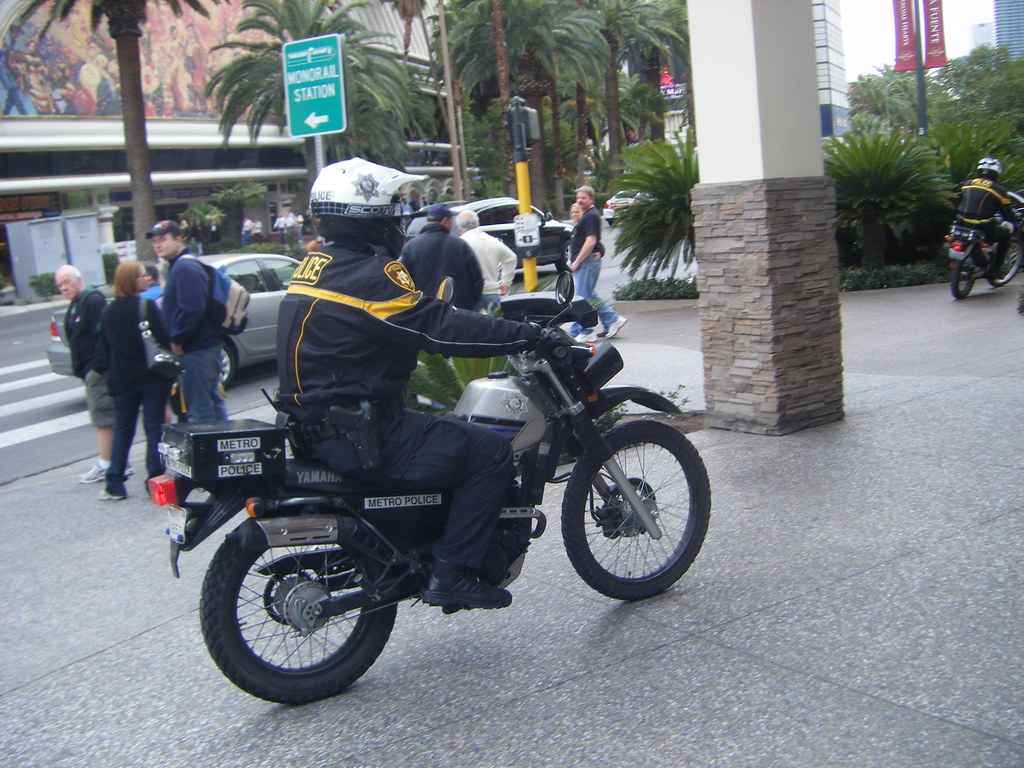helmet: (313, 161, 411, 270)
